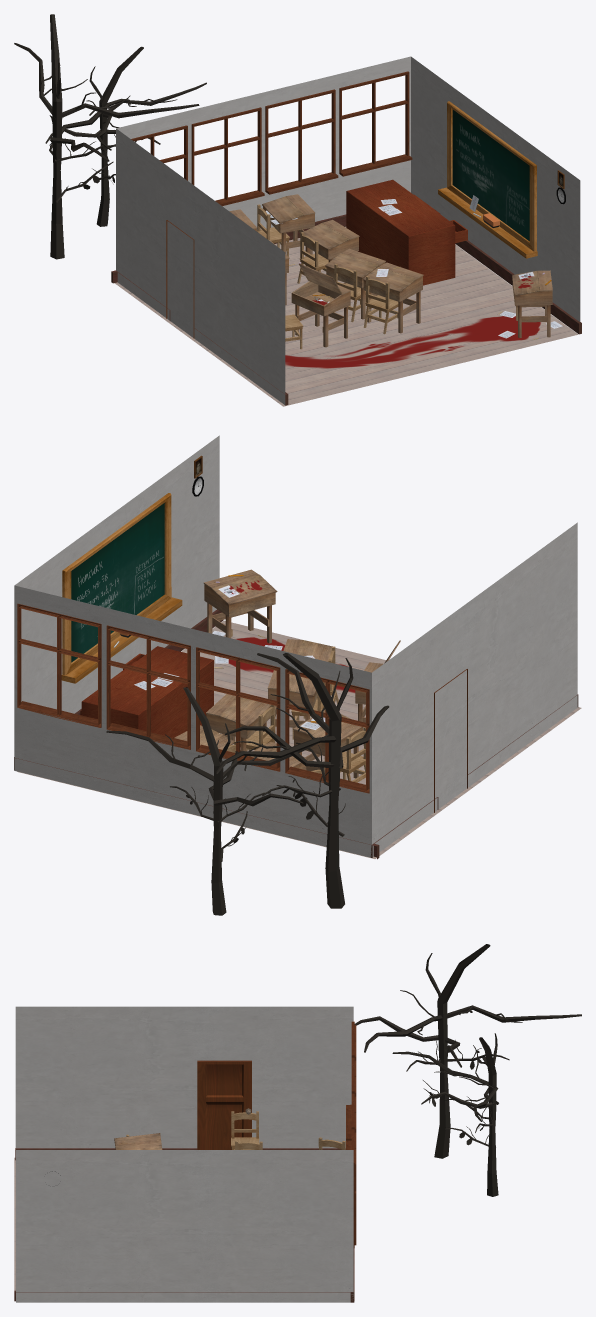
Rendered from classroom_scene.glb.
3 views of the same model, one above another, from view 1: azimuth 30°, elevation 25°; view 2: azimuth 150°, elevation 25°; view 3: azimuth 270°, elevation 25° (orthographic). The views are drawn at different scales.
Visible parts, largest first — view 1: WALL, FLOOR, Board, OBJ_T_DESK, desk_base (×6), OBJ_Tree1, OBJ_BLOOD_TRAIL, desk_Lid (×5), OBJ_Tree2, WINDOW2, WINDOW3, WINDOW (+6 smaller); view 2: WALL, Board, OBJ_Tree1, OBJ_T_DESK, FLOOR, desk_base (×4), OBJ_Tree2, WINDOW3, WINDOW2, WINDOW, WINDOW1, desk_Lid (×2) (+2 smaller); view 3: WALL, OBJ_Tree1, OBJ_door, OBJ_Tree2, desk_Lid, OBJ_Chair7, WINDOW3.
Boxes of the visible parts, x1,y1,x2,y2 form: WALL: (116,56,580,404); FLOOR: (114,226,578,406); Board: (438,101,537,258); OBJ_T_DESK: (346,179,467,285); desk_base (×6): (263,194,552,347); OBJ_Tree1: (14,14,199,259); OBJ_BLOOD_TRAIL: (285,316,540,368); desk_Lid (×5): (262,196,415,294); OBJ_Tree2: (45,46,206,226); WINDOW2: (265,89,338,194); WINDOW3: (339,71,412,176); WINDOW: (191,107,264,206); WALL: (14,435,577,857); Board: (61,493,182,683); OBJ_Tree1: (216,653,389,908); OBJ_T_DESK: (80,646,213,737); FLOOR: (17,620,581,858); desk_base (×4): (203,569,362,778); OBJ_Tree2: (106,687,329,915); WINDOW3: (17,603,101,727); WINDOW2: (106,625,190,749); WINDOW: (196,647,280,771); WINDOW1: (285,669,369,793); desk_Lid (×2): (211,575,277,726); WALL: (15,1006,353,1302); OBJ_Tree1: (354,944,581,1158); OBJ_door: (197,1060,251,1149); OBJ_Tree2: (392,1033,498,1196); desk_Lid: (114,1133,162,1149); OBJ_Chair7: (231,1111,259,1149); WINDOW3: (351,1129,356,1248).
Bounding box in the file's own units: 862 × 584 × 1341.
18 materials, 17 textured.
